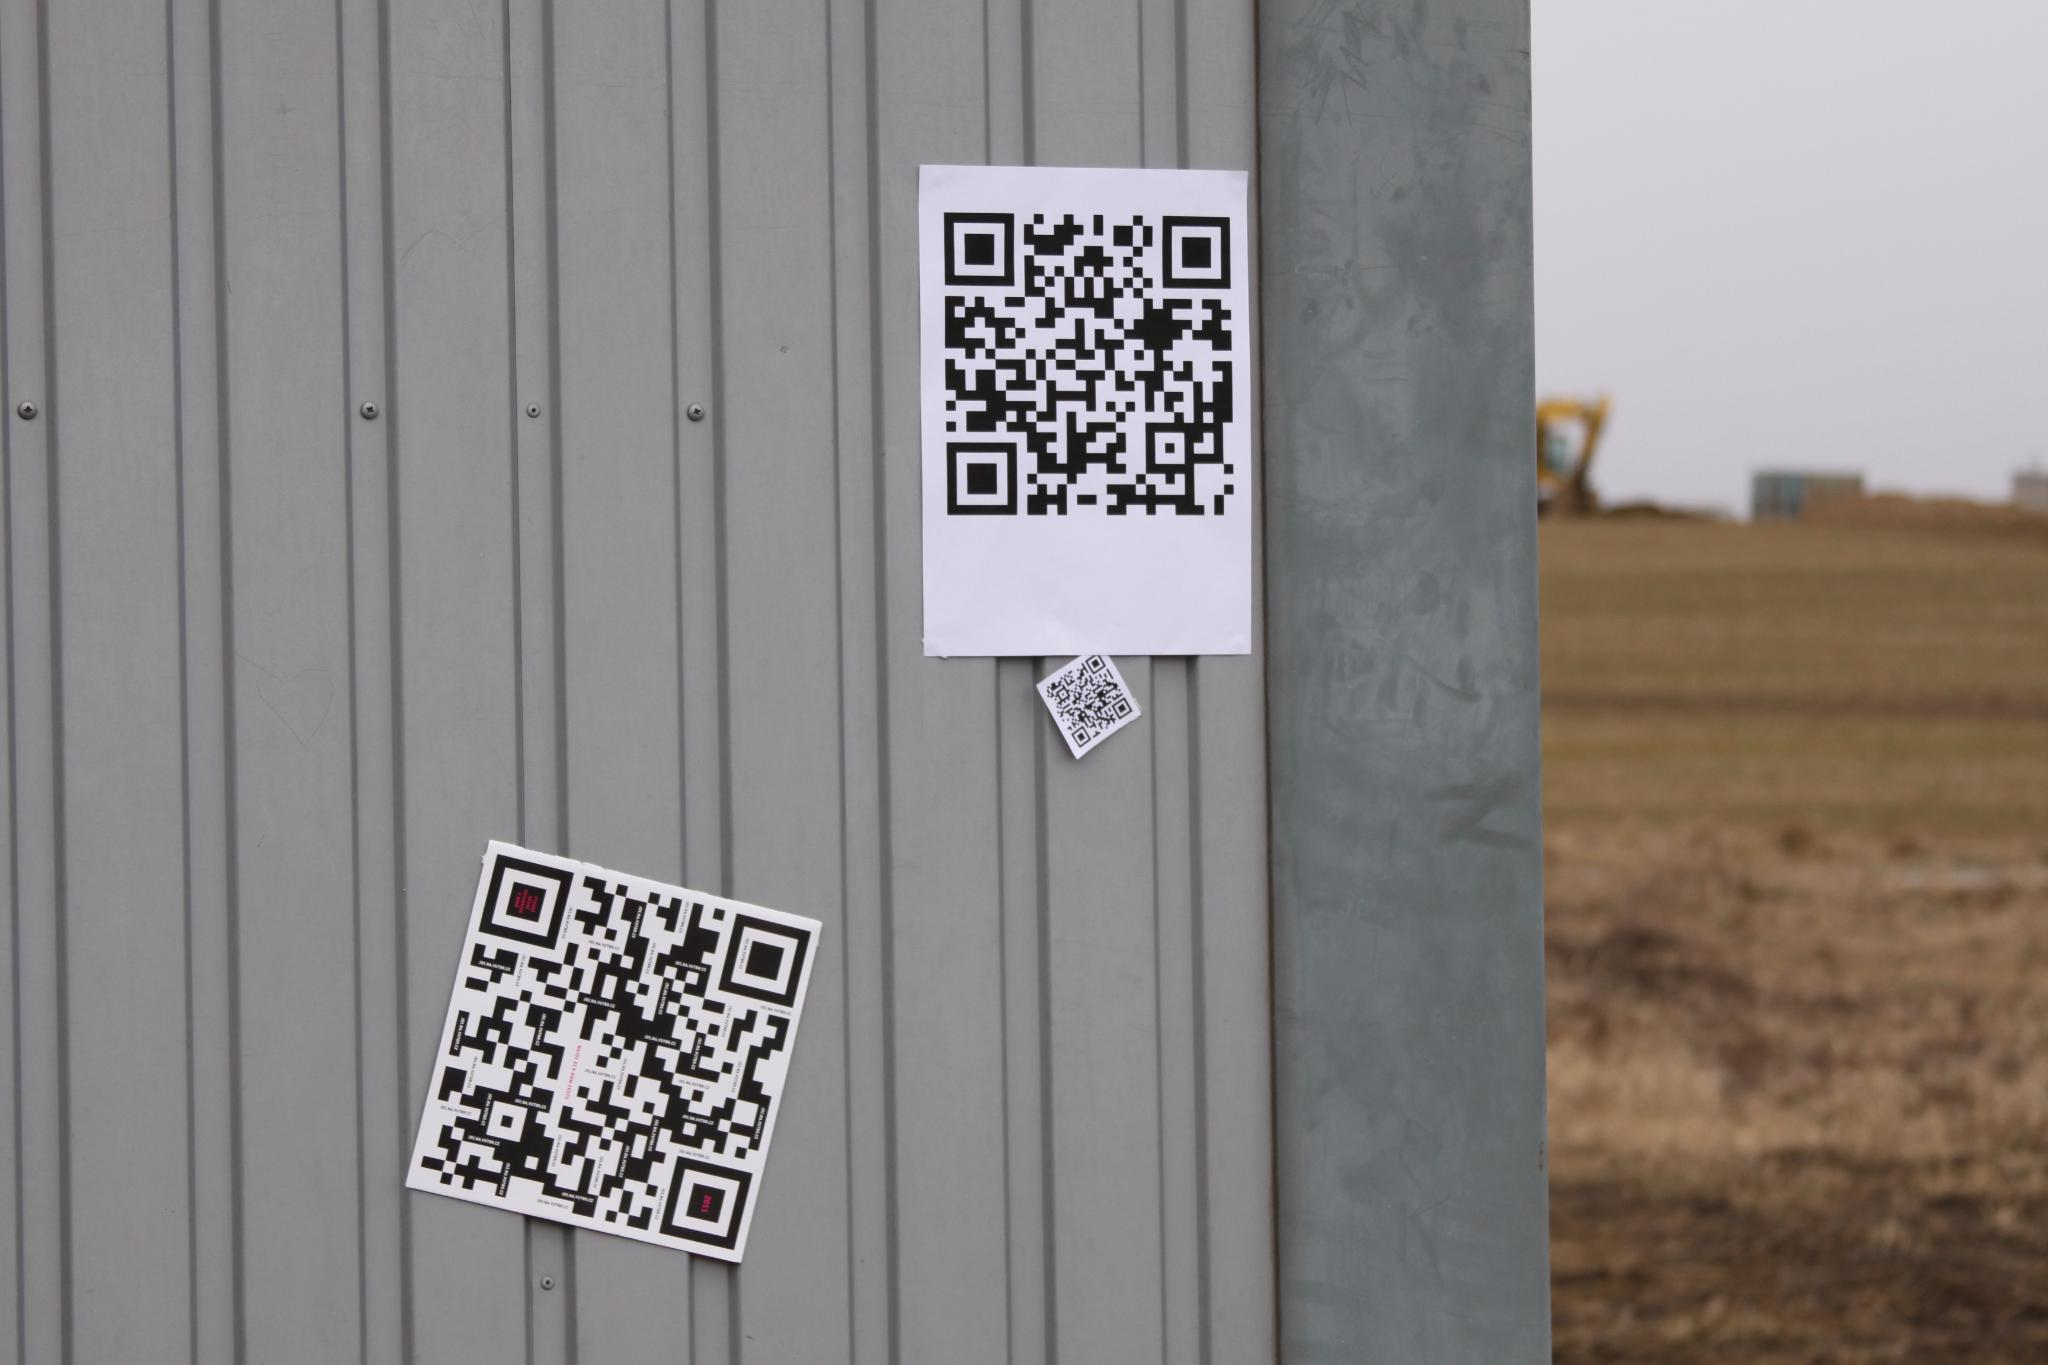Finder pattern: (471, 849, 576, 955), (708, 913, 815, 1016), (662, 1161, 755, 1258), (933, 433, 1025, 527), (930, 206, 1025, 296), (1153, 209, 1236, 297), (1067, 724, 1096, 750), (1112, 695, 1134, 724), (1083, 651, 1107, 676)
